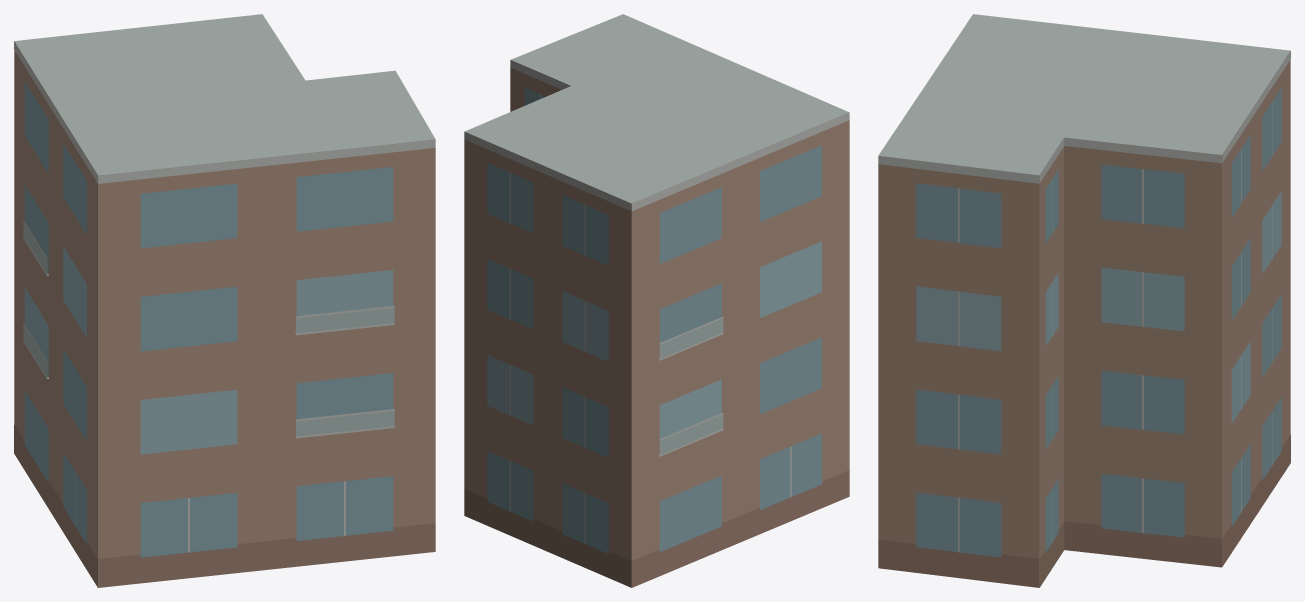
File: survey-upis-32831616.glb
The picture shows the model from 3 angles, left to right: view 1: azimuth 30°, elevation 25°; view 2: azimuth 150°, elevation 25°; view 3: azimuth 270°, elevation 25°; orthographic projection. The views are drawn at different scales.
Parts seen in each view (by area): view 1: survey-upis-32831616.tmp; view 2: survey-upis-32831616.tmp; view 3: survey-upis-32831616.tmp.
Boxes of the visible parts, x1,y1,x2,y2 form: survey-upis-32831616.tmp: (14,14,435,587); survey-upis-32831616.tmp: (464,14,849,587); survey-upis-32831616.tmp: (878,14,1290,587).
Bounding box in the file's own units: 10.08 × 12 × 10.89.
